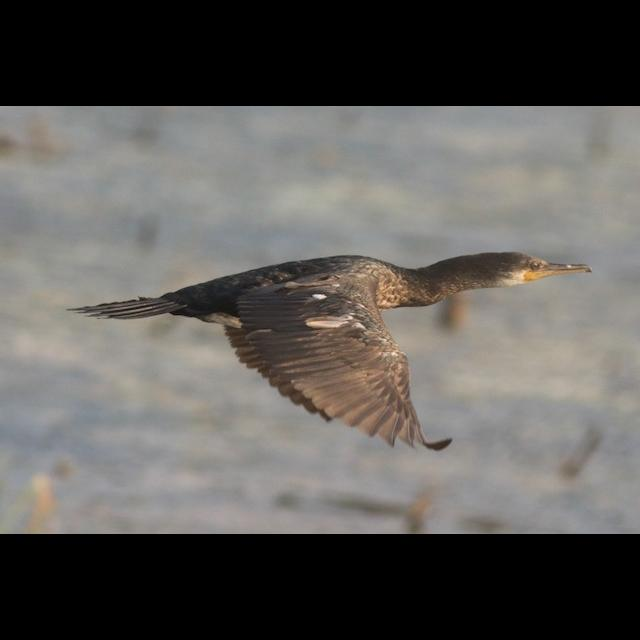cormorant: (73, 249, 592, 445)
